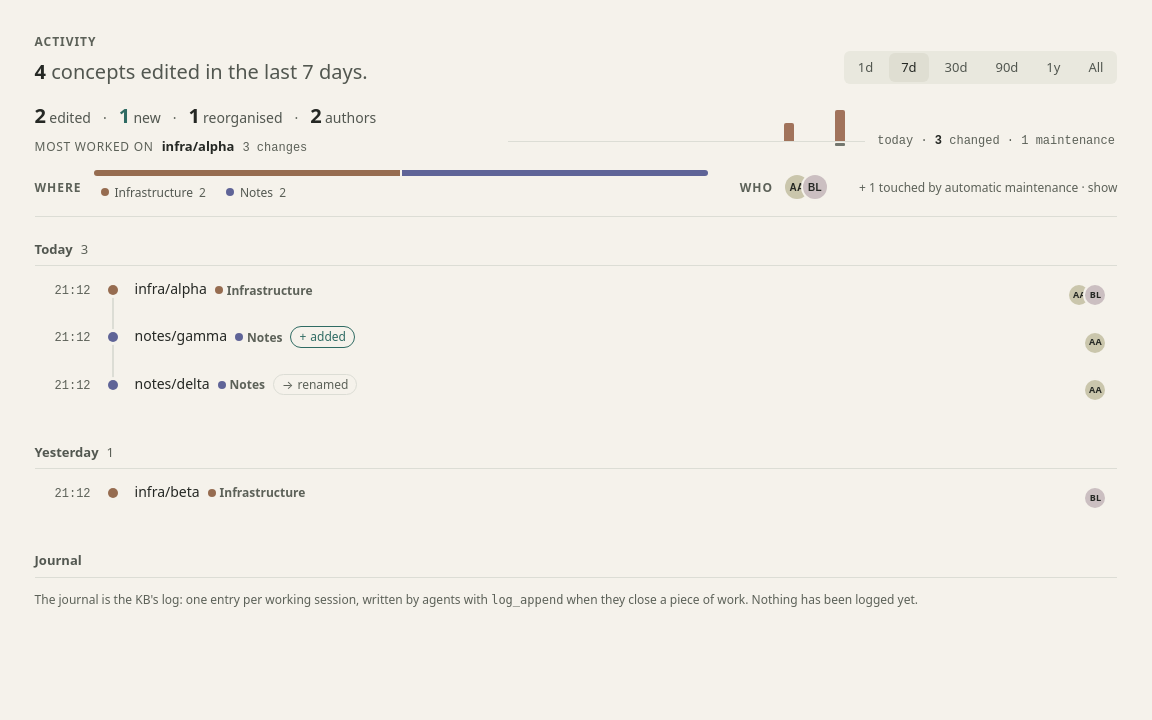
it: the Activity summary › reads the days off a sparkline: today at rest, the hovered day under the pointer
The image size is (1152, 720).
Expected: the element with class "activity-bars__caption" reads "today · 3 changed · 1 maintenance", [877,134,1117,148]
Hover over the button named "Oct 31: 1 changed".
mouse_move(789, 126)  # box [781,110,797,141]
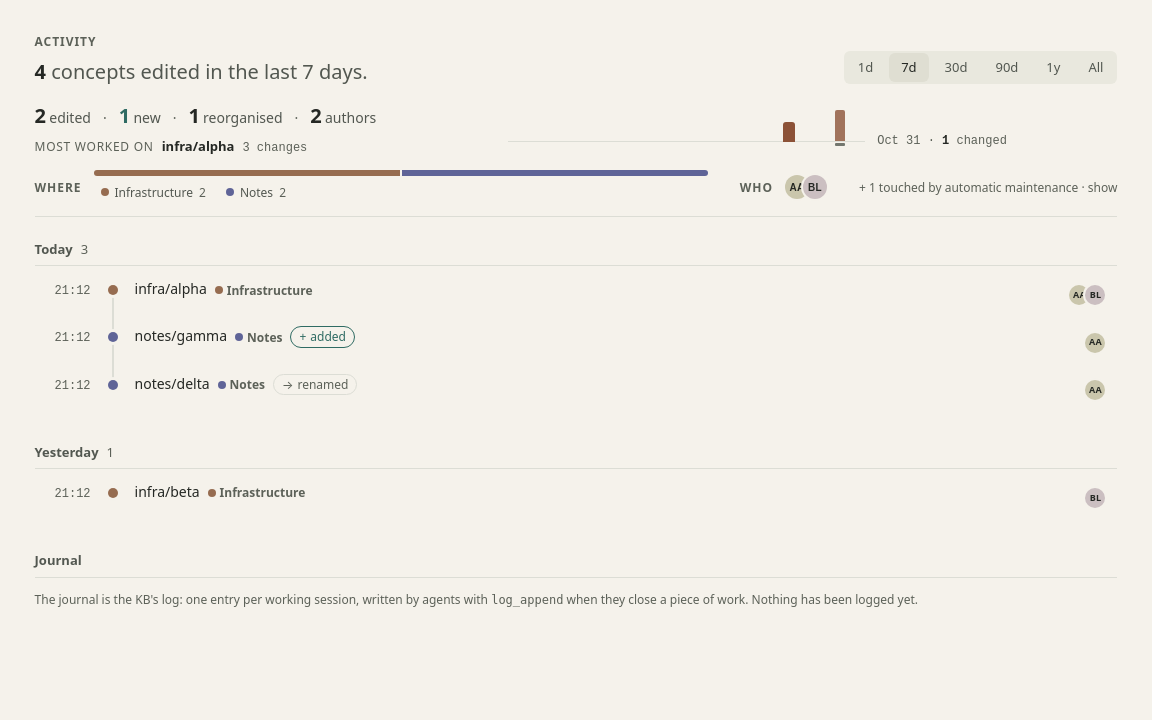
Expected: the element with class "activity-bars__caption" does not show "today", [877,134,1007,148]
Result: the element with class "activity-bars__caption" reads "Oct 31 · 1 changed" at [877,134,1007,148]
Move the pointer off the button named "Oct 31: 1 changed", box [781,110,797,141]
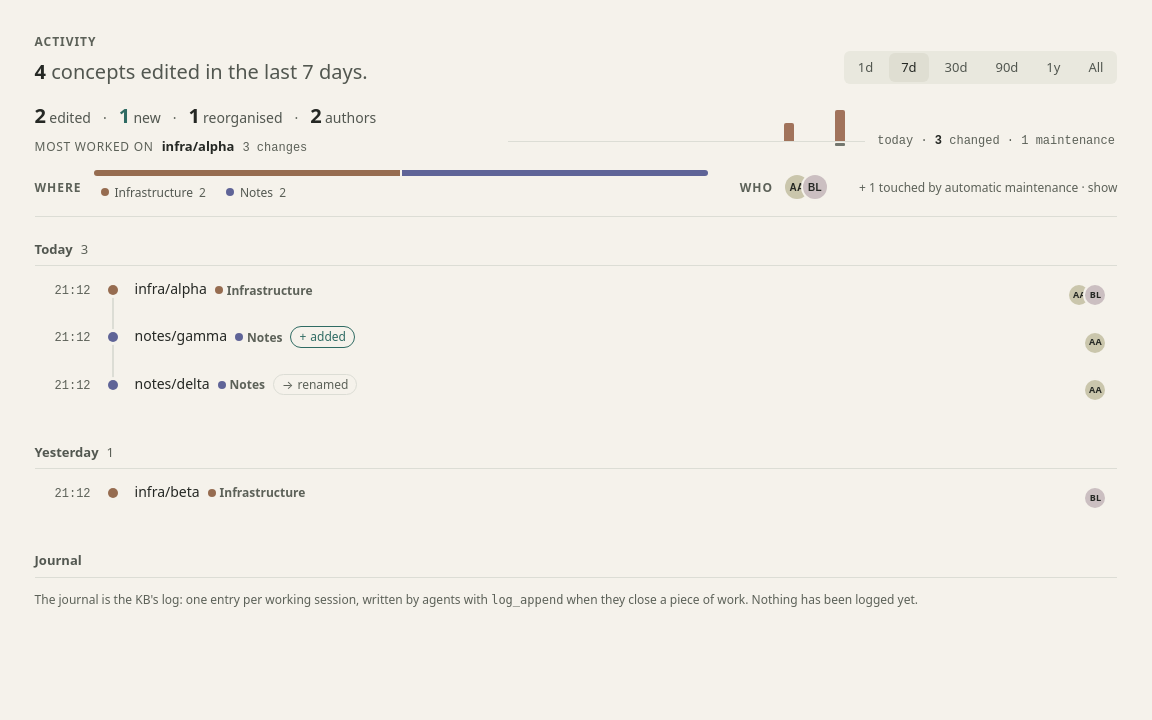
Result: the element with class "activity-bars__caption" reads "today · 3 changed · 1 maintenance" at [877,134,1117,148]
